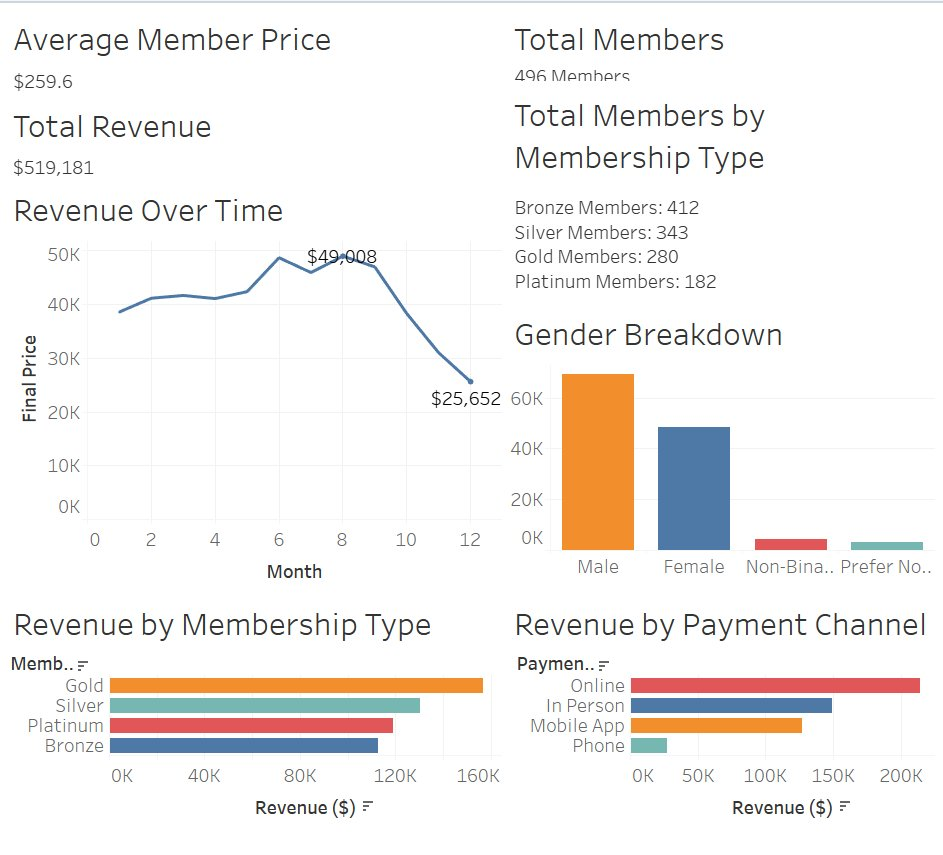

Layout of this report page (visuals, bound fields, positions):
{"tool":"tableau","page":{"name":"HAMA Dashboard","canvas":[1000,1000],"units":"permille","ordinal":0},"visuals":[{"type":"worksheet","title":"Average Member Price","mark":"Automatic","box":[8.4,11.2,527.8,88.3]},{"type":"worksheet","title":"Total Members","mark":"Automatic","box":[536.2,11.2,455.4,88.3]},{"type":"worksheet","title":"Total Revenue","mark":"Automatic","box":[8.4,99.5,527.8,90.8]},{"type":"worksheet","title":"Membership Type","mark":"Automatic","box":[536.2,99.5,455.4,177.9]},{"type":"worksheet","title":"Revenue Over Time","mark":"Line","rows":["FinalPrice"],"cols":["Month"],"box":[8.4,190.3,527.8,498.3]},{"type":"worksheet","title":"Gender Breakdown","mark":"Automatic","rows":["Member_SK (DimMember)"],"cols":["Gender"],"box":[536.2,277.3,455.4,411.2]},{"type":"worksheet","title":"Revenue by Membership Type","mark":"Bar","rows":["MembershipType"],"cols":["FinalPrice"],"box":[8.4,688.6,527.8,300.3]},{"type":"worksheet","title":"Payment Channel","mark":"Automatic","rows":["PaymentChannel"],"cols":["FinalPrice"],"box":[536.2,688.6,455.4,300.3]}]}

Visuals, with their boxes on the dashboard's canvas, which has no fixed pixel size, in thousandths of its width and height (x1, y1, x2, y2). These are canvas units, not pixel positions in the 943x855 screenshot, which may show the page scaled, cropped or inside an application window:
"Average Member Price" worksheet: pyautogui.locateOnScreen(8, 11, 536, 100)
"Total Members" worksheet: pyautogui.locateOnScreen(536, 11, 992, 100)
"Total Revenue" worksheet: pyautogui.locateOnScreen(8, 100, 536, 190)
"Membership Type" worksheet: pyautogui.locateOnScreen(536, 100, 992, 277)
"Revenue Over Time" worksheet (Line marks): pyautogui.locateOnScreen(8, 190, 536, 689)
"Gender Breakdown" worksheet: pyautogui.locateOnScreen(536, 277, 992, 688)
"Revenue by Membership Type" worksheet (Bar marks): pyautogui.locateOnScreen(8, 689, 536, 989)
"Payment Channel" worksheet: pyautogui.locateOnScreen(536, 689, 992, 989)
